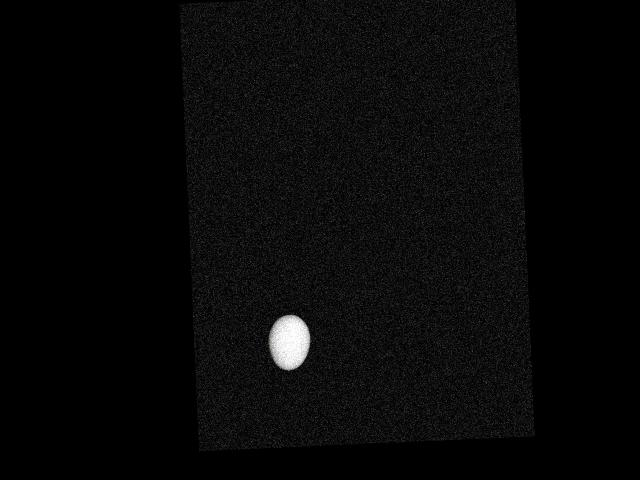egg: (267, 313, 311, 370)
